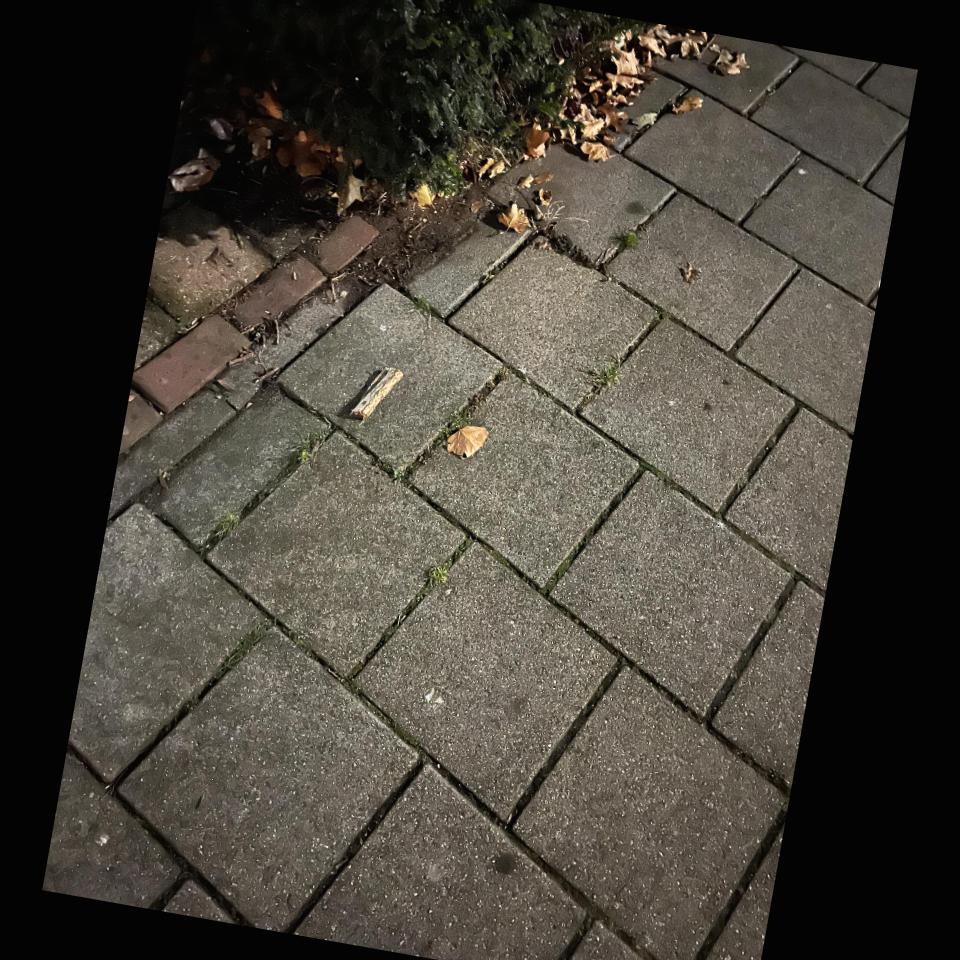weed: (590, 357, 622, 392), (298, 434, 320, 464), (426, 563, 450, 590), (411, 297, 432, 326), (616, 230, 640, 251)
